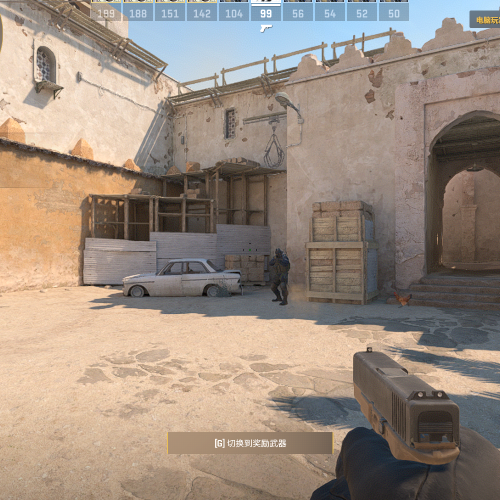chicken: (393, 291, 413, 309)
ct_body: (269, 247, 291, 306)
ct_head: (273, 247, 284, 258)
